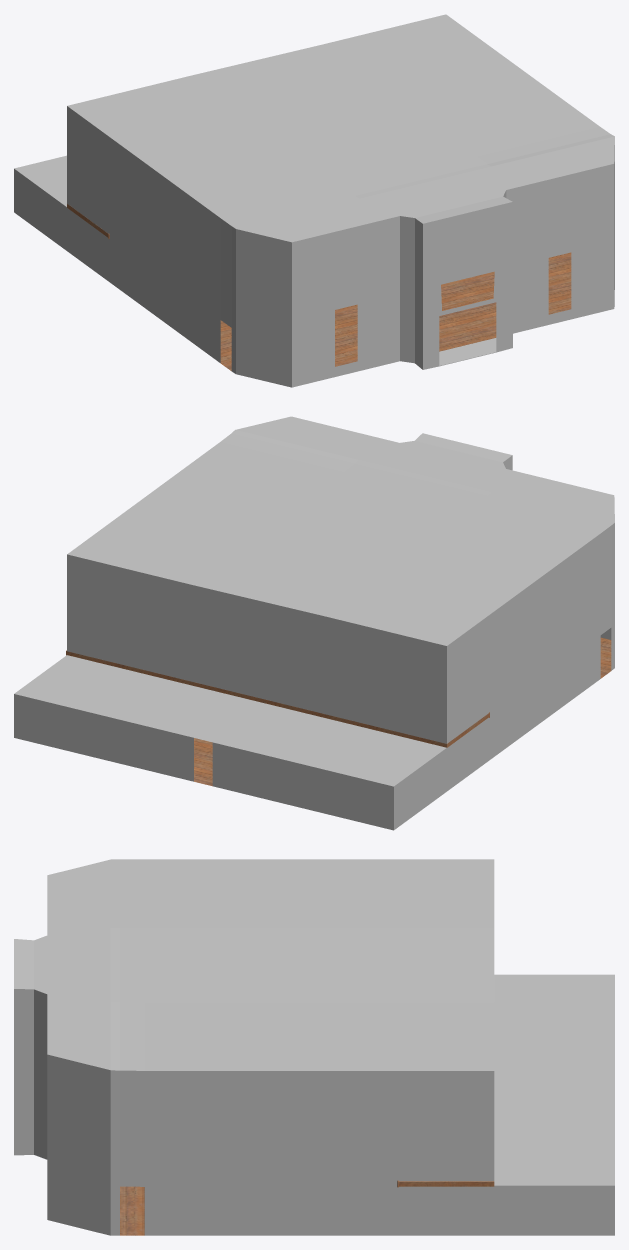
Rendered from Hall_M - copia.FBX.
The picture shows the model from 3 angles, top to bottom: view 1: azimuth 30°, elevation 25°; view 2: azimuth 150°, elevation 25°; view 3: azimuth 270°, elevation 25°; orthographic projection. The views are drawn at different scales.
Parts seen in each view (by area): view 1: Hall; view 2: Hall; view 3: Hall.
Part boxes in pixels (<box>): Hall: <box>14,14,614,387</box>; Hall: <box>14,416,614,830</box>; Hall: <box>14,859,614,1235</box>.
Bounding box in the file's own units: 10746 × 12854 × 3943.
